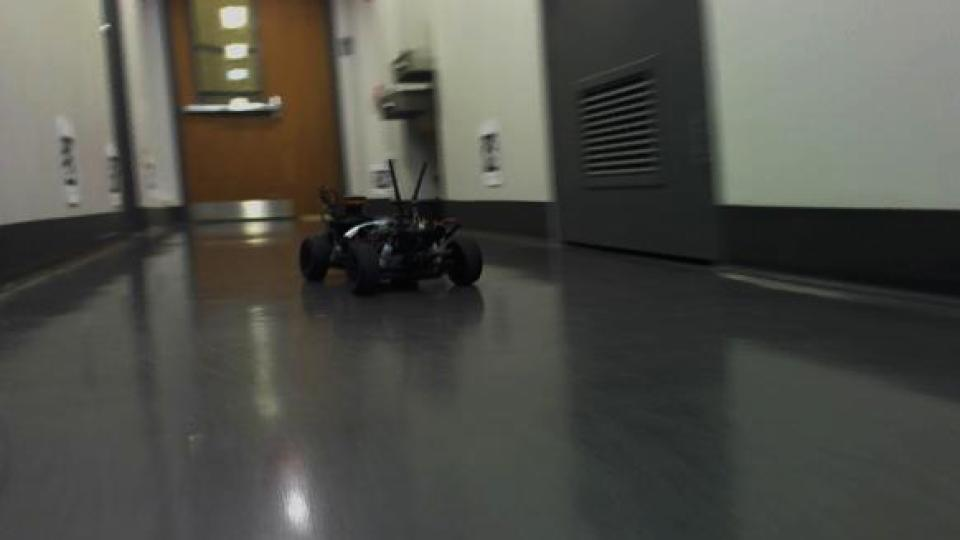car: (297, 156, 488, 298)
